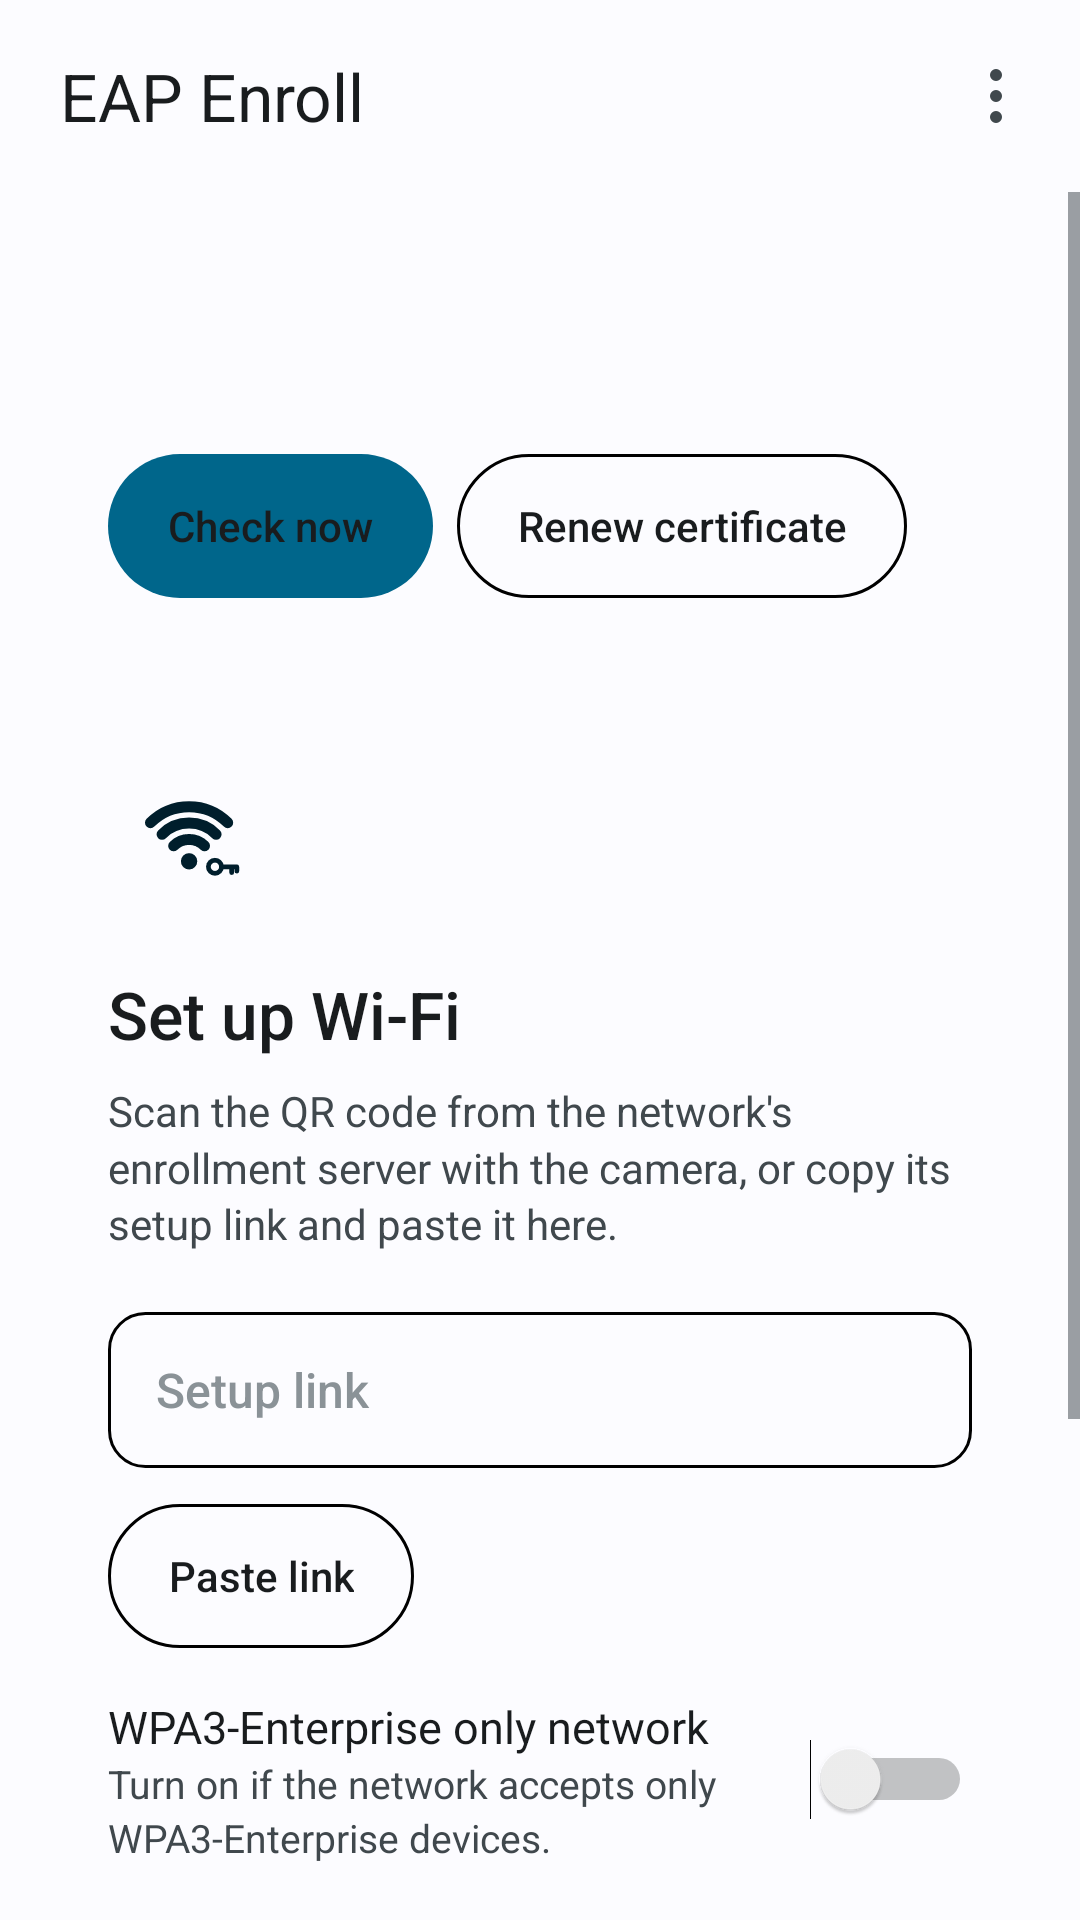

Icon click points for this 1080*1920 phone screenshot, format point (x, y):
More options: point (996, 96)
wifi key: point (192, 838)
